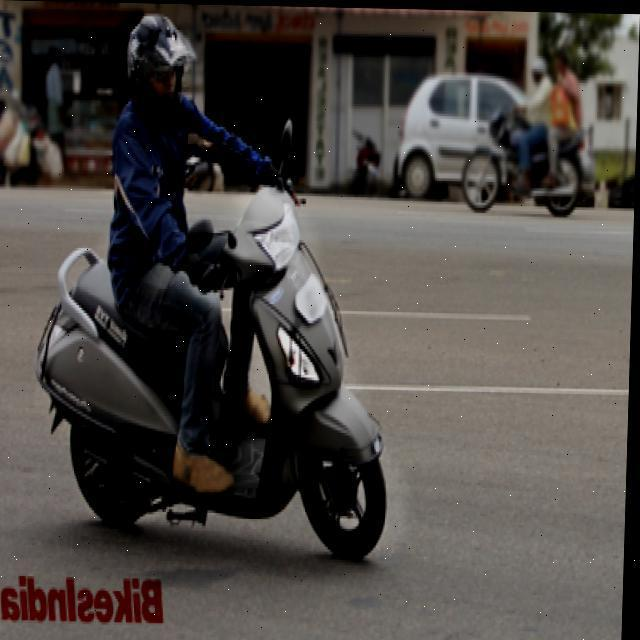Helmet: (114, 4, 197, 128)
